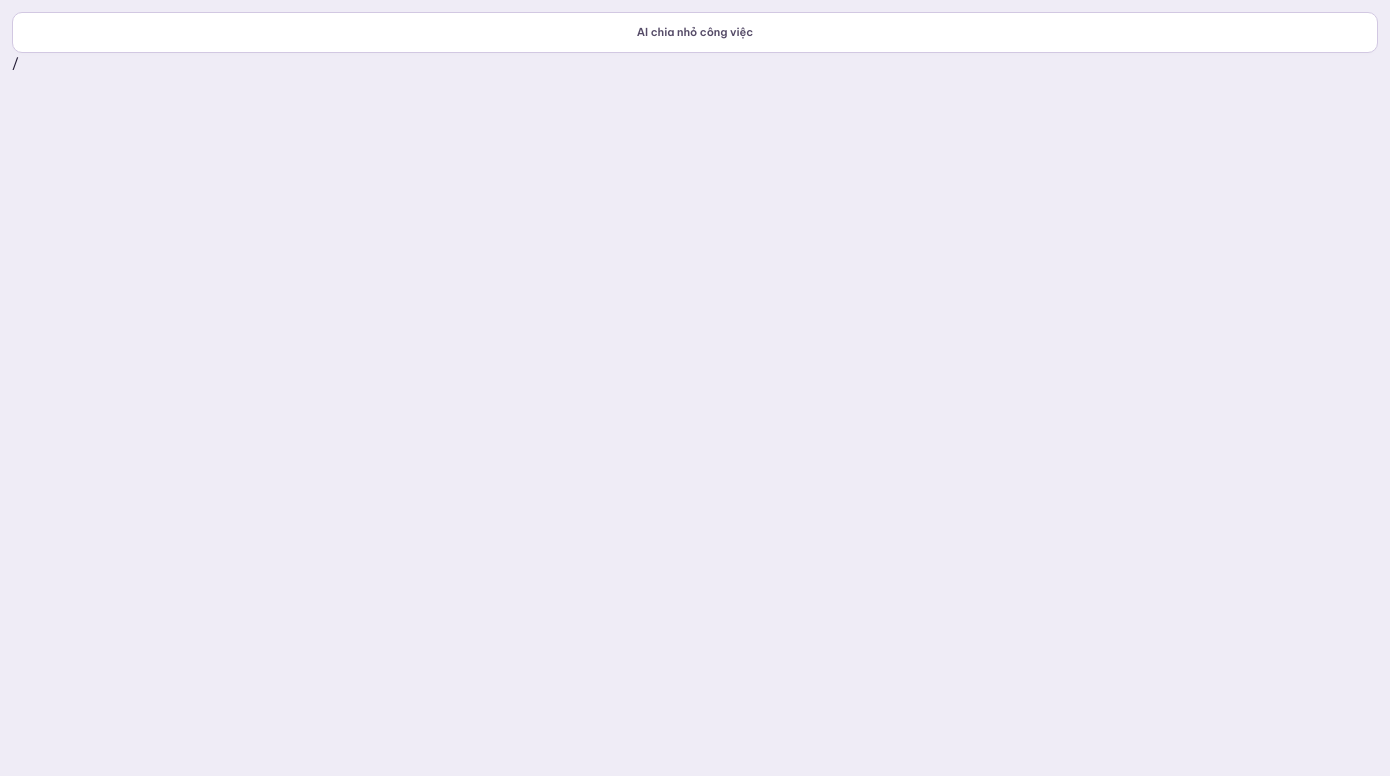
Scenario: Reviewed AI proposals and source context › edits AI checklist steps before explicit batch confirmation
Later steps or results of the test are not shown.
What coordinates should you click on to do the following:
click the button "AI chia nhỏ công việc"
I would click on:
 (695, 32)
Its box is x1=12 y1=12 x2=1378 y2=52.
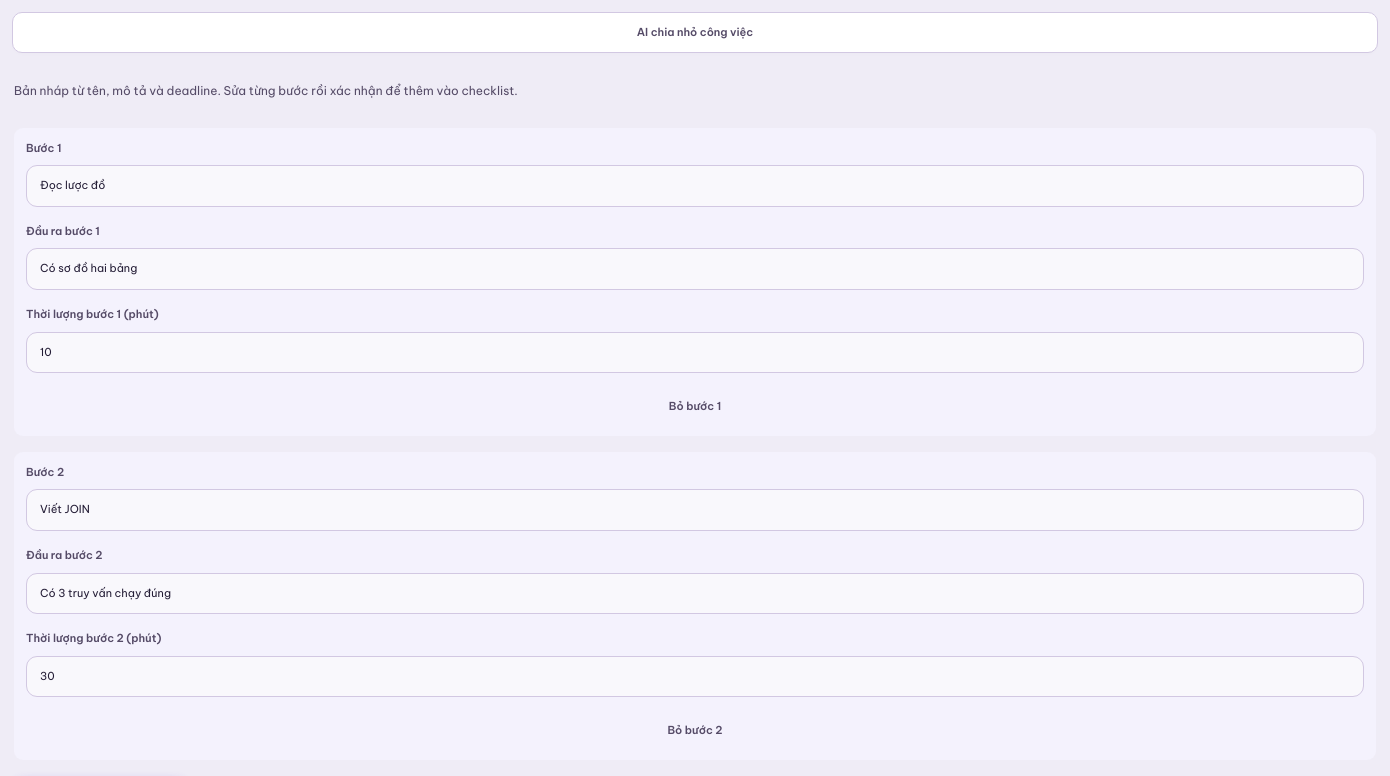
Now the field labelled "Bước 1" is shown, box x1=26 y1=165 x2=1364 y2=207
